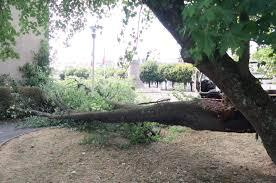Downstairs: (5, 79, 276, 135)
